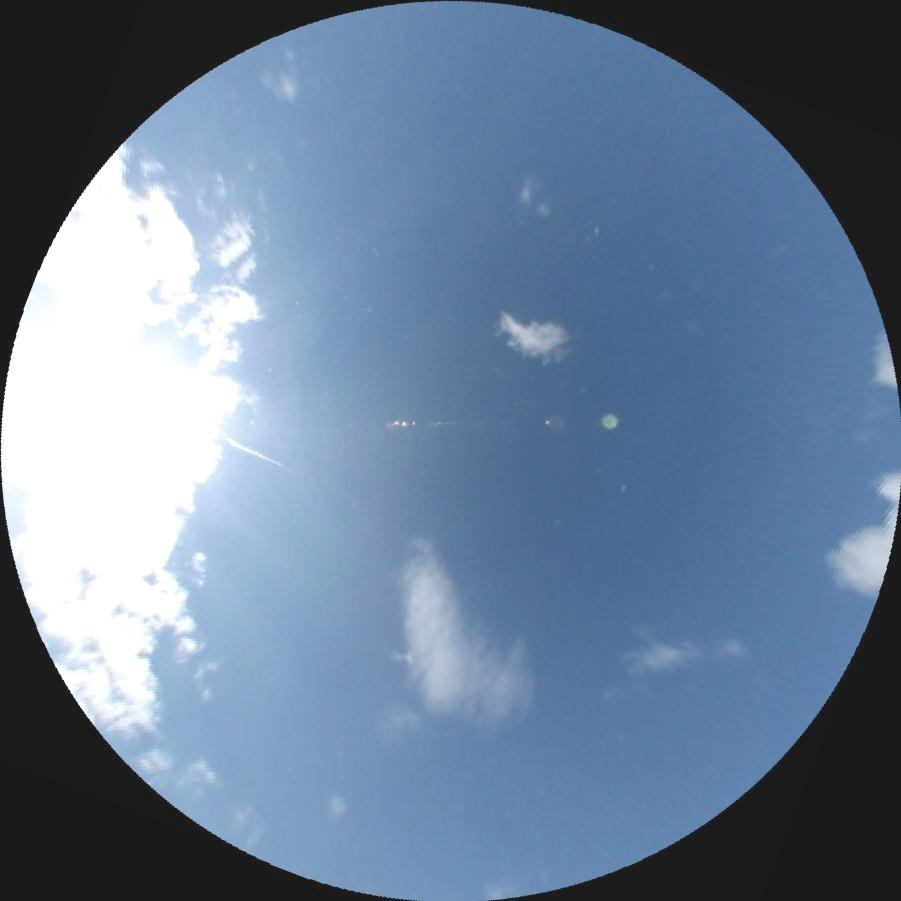contrail young: (663, 461, 679, 473)
parasite: (223, 435, 282, 469)
